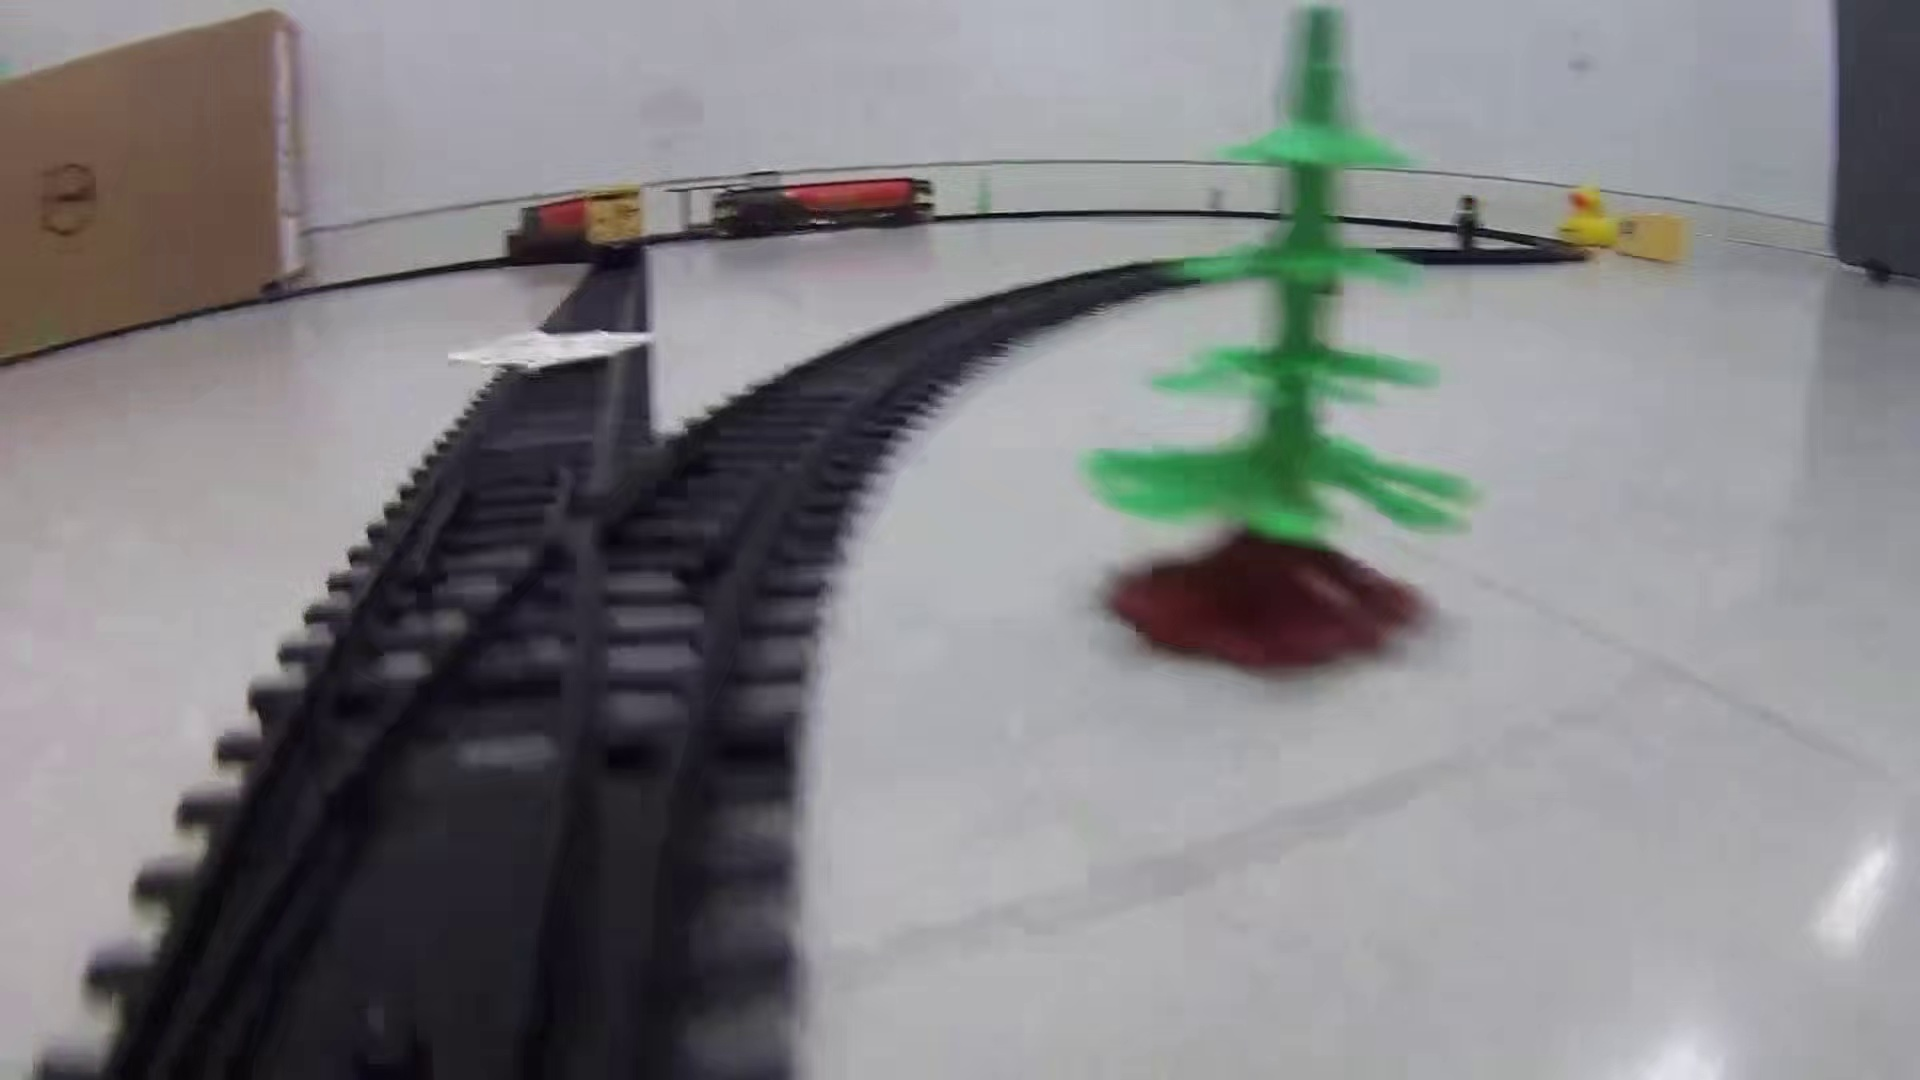tree: (1083, 1, 1487, 681)
web: (442, 327, 653, 377)
